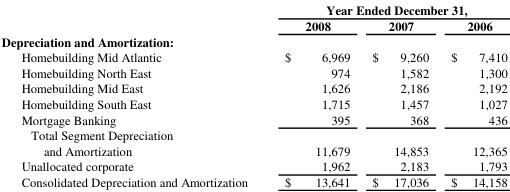table: (0, 1, 506, 189)
table column: (0, 1, 265, 189), (265, 1, 360, 189), (360, 1, 439, 189), (439, 1, 506, 189)
table column header: (0, 1, 506, 33)
table projected row header: (0, 33, 506, 48)
table row: (0, 126, 506, 157), (0, 1, 506, 17), (0, 17, 506, 33), (0, 48, 506, 64), (0, 79, 506, 95), (0, 110, 506, 126), (0, 157, 506, 173), (0, 173, 506, 189), (0, 33, 506, 48), (0, 64, 506, 79), (0, 95, 506, 110)
table spanning cell: (265, 1, 506, 17)
